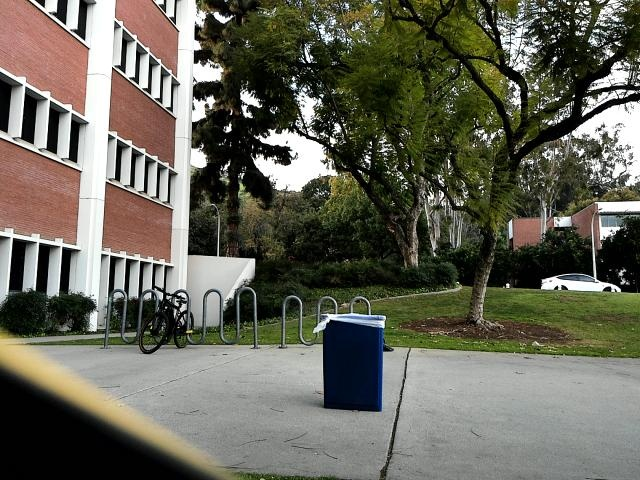trashcan_open: (318, 310, 391, 430)
